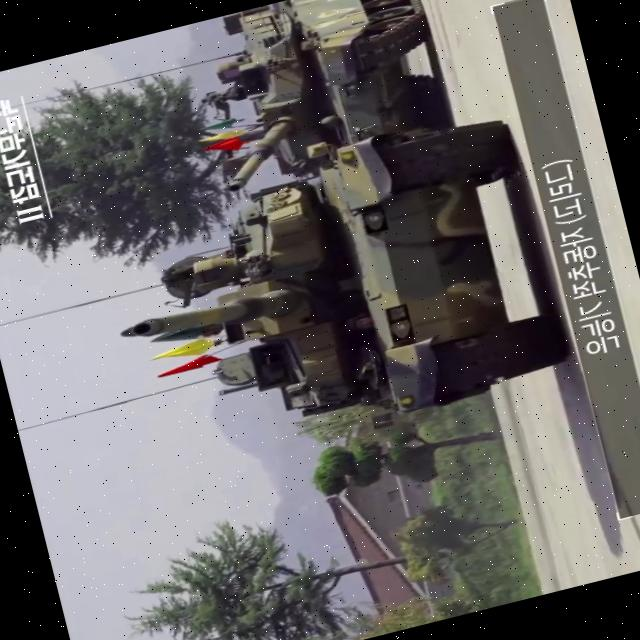korea tank: (85, 94, 574, 486)
